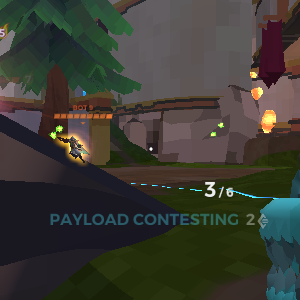model: (61, 129, 86, 166)
